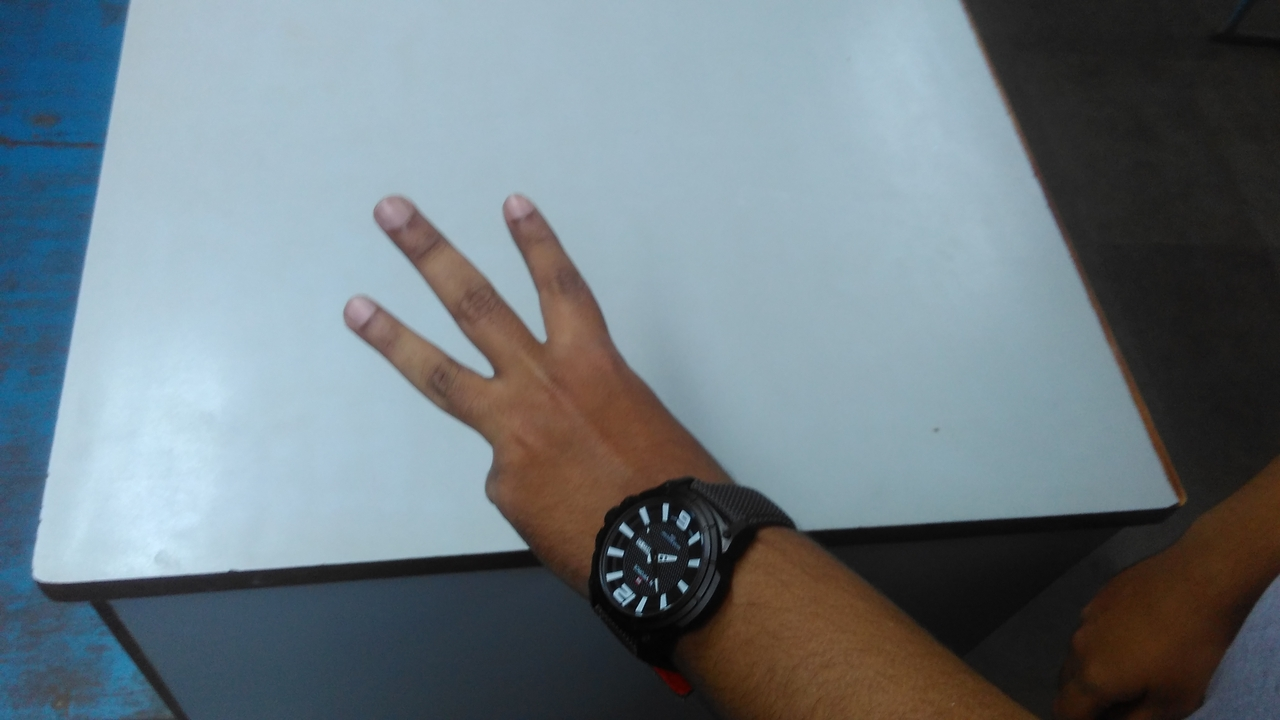fingertip: (358, 182, 432, 242), (484, 184, 556, 240), (326, 284, 400, 338)
